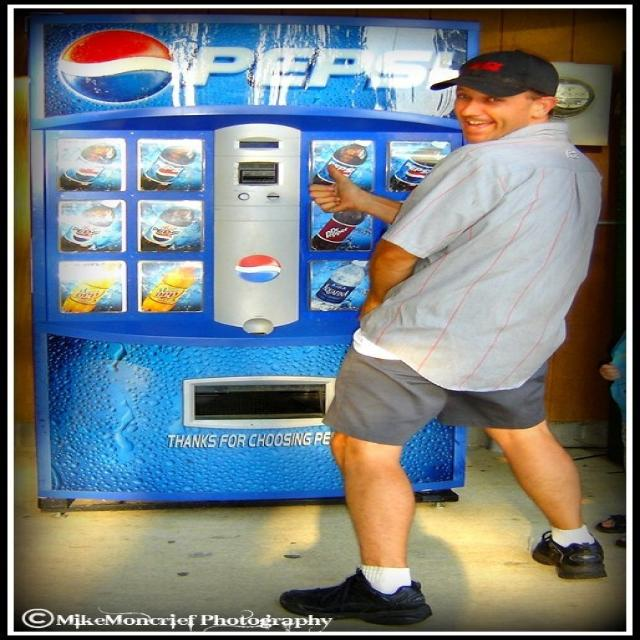pepsi: (54, 30, 178, 105), (238, 257, 288, 285), (155, 169, 179, 183), (79, 170, 100, 181), (154, 231, 173, 243), (75, 231, 93, 243), (407, 170, 426, 181)
